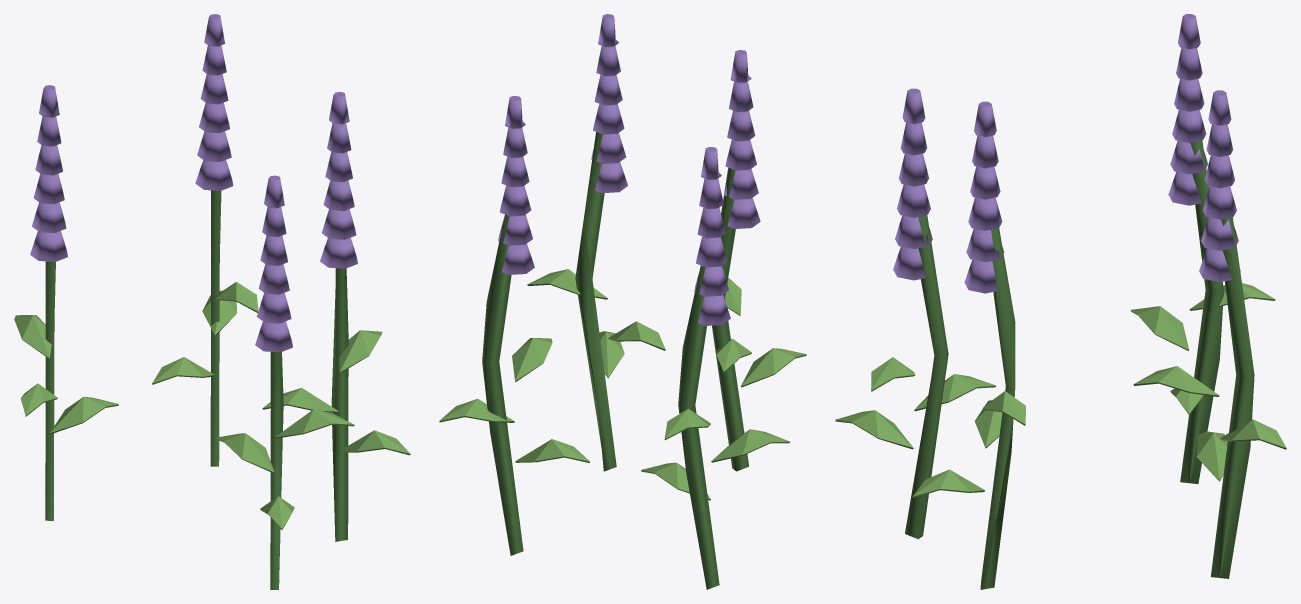
The model's file is flower.lavender-far.glb.
3 views of the same model, side by side, from view 1: azimuth 30°, elevation 25°; view 2: azimuth 150°, elevation 25°; view 3: azimuth 270°, elevation 25° (orthographic). The views are drawn at different scales.
Visible parts, largest first — view 1: Living stem; view 2: Living stem; view 3: Living stem.
Part boxes in pixels (box(x1,y1,x2,y2)): Living stem: box(14, 14, 410, 589); Living stem: box(439, 14, 806, 589); Living stem: box(835, 14, 1286, 589).
Size of the model in its own units: 0.3779 by 0.526 by 0.443.
